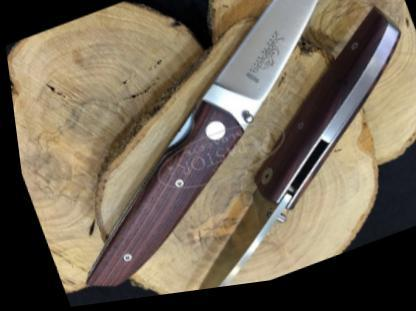knife: (158, 0, 391, 159)
